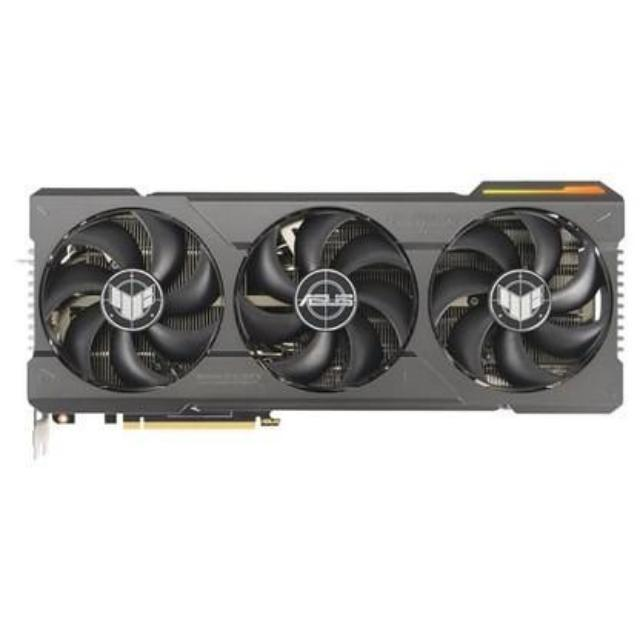GPU: (25, 185, 620, 420)
